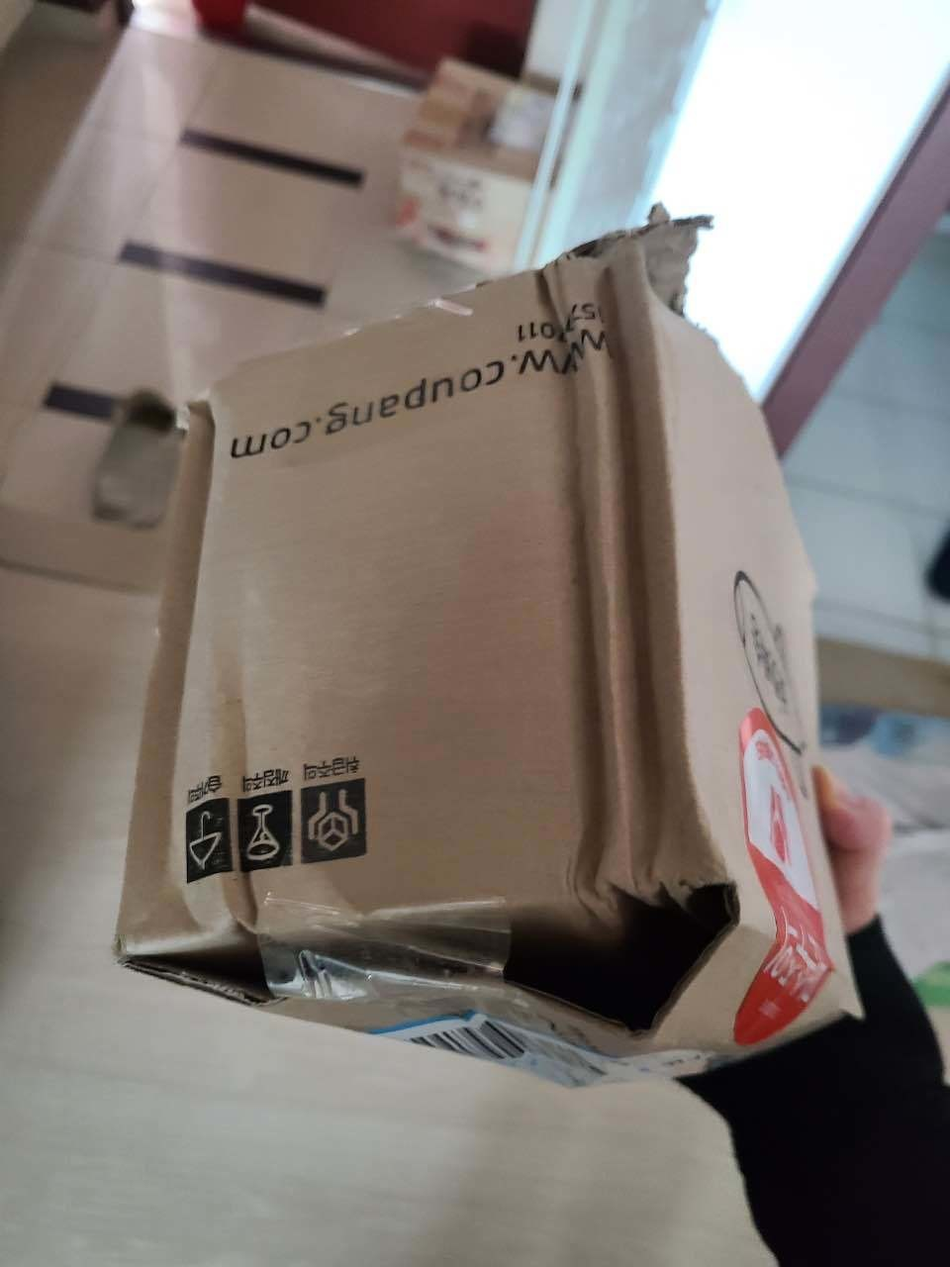damaged package: (88, 870, 739, 1050)
